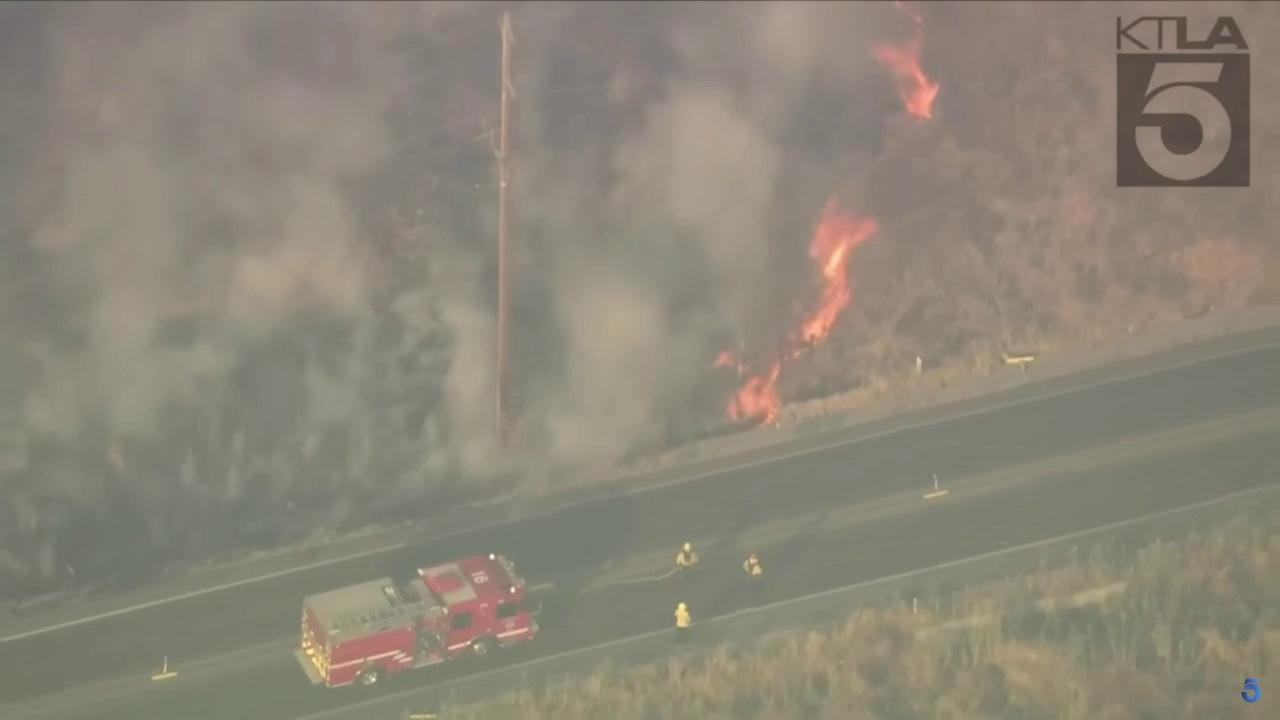fire: (790, 193, 880, 360), (868, 0, 945, 123), (713, 351, 785, 430)
smoke: (0, 0, 904, 564)
